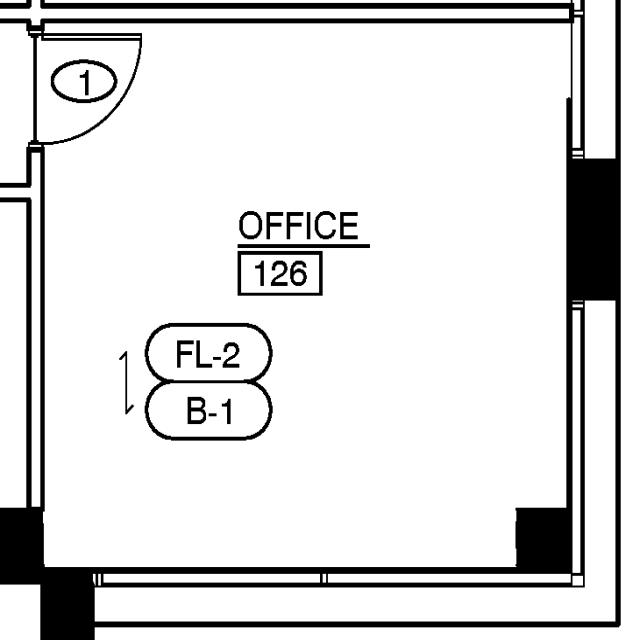Doors: (30, 25, 150, 149)
